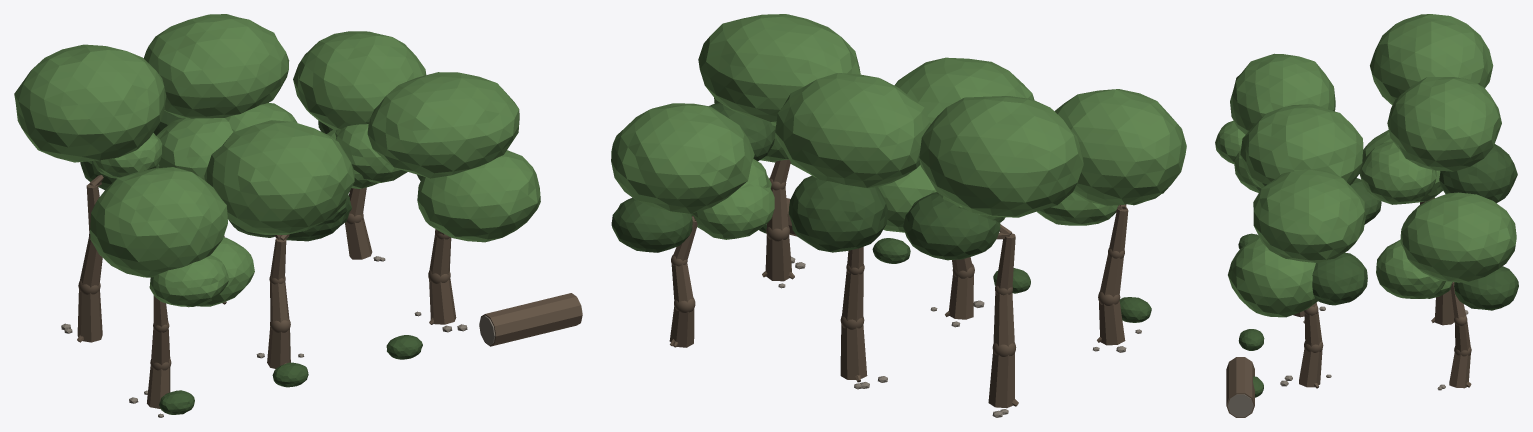
The model's file is old_forest_lvl1.glb.
3 views of the same model, side by side, from view 1: azimuth 30°, elevation 25°; view 2: azimuth 150°, elevation 25°; view 3: azimuth 270°, elevation 25° (orthographic). The views are drawn at different scales.
Visible parts, largest first — view 1: old_forest; view 2: old_forest; view 3: old_forest.
Part boxes in pixels (x1,y1,x2,y2): old_forest: (14,14,582,417); old_forest: (611,14,1186,417); old_forest: (1215,14,1518,417).
Size of the model in its own units: 0.8194 by 0.4951 by 0.5552.
